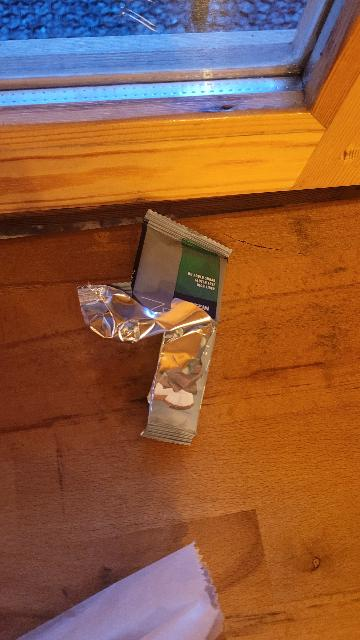Plastik: (76, 207, 236, 457), (3, 538, 225, 640)
